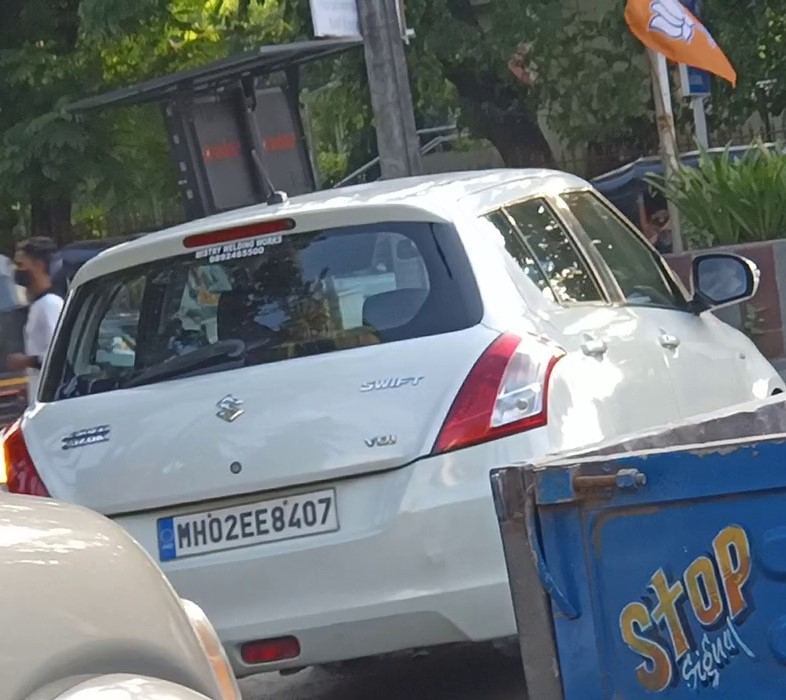MH02EE8407: (157, 487, 340, 562)
